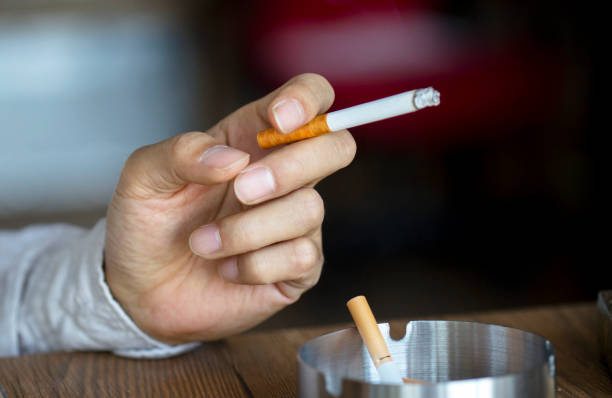cigarette: (254, 87, 440, 152), (349, 294, 405, 384)
